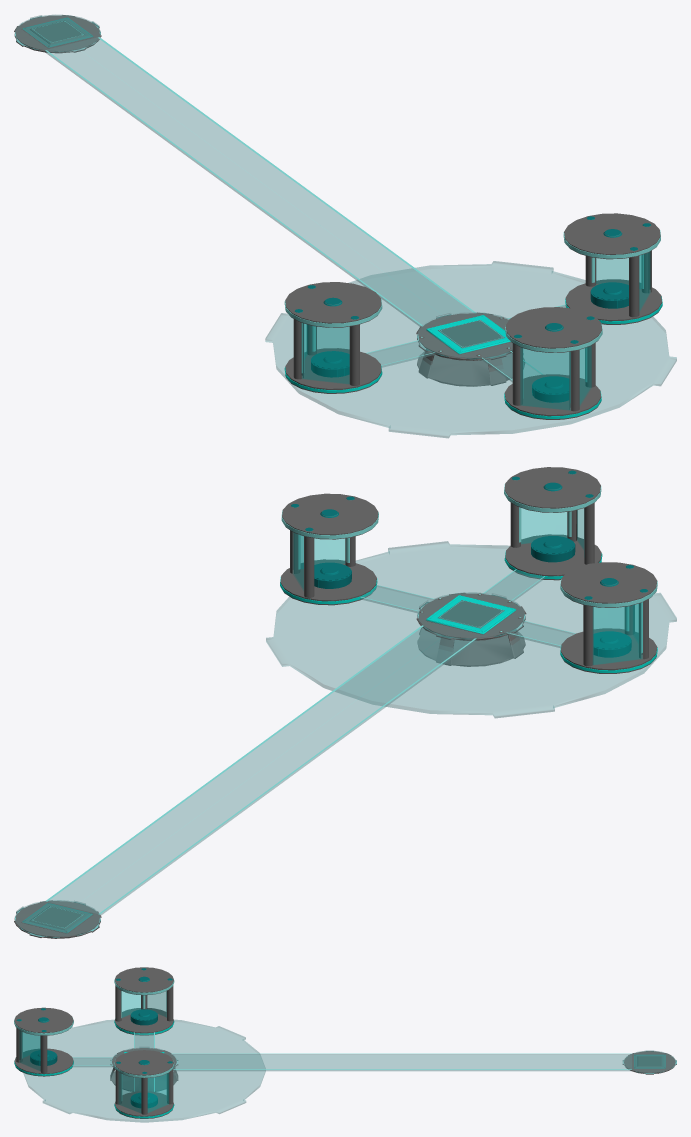
File: MAINMENU (4).fbx
The picture shows the model from 3 angles, top to bottom: view 1: azimuth 30°, elevation 25°; view 2: azimuth 150°, elevation 25°; view 3: azimuth 270°, elevation 25°; orthographic projection. The views are drawn at different scales.
Visible parts, largest first — view 1: pCylinder81, pCube10, pCylinder68, pCylinder60, pCylinder43, pCylinder77, pCylinder34, pCylinder5, pCylinder11, pCylinder7, pCylinder9, pCylinder25 (+13 smaller); view 2: pCylinder81, pCube10, pCylinder77, pCylinder43, pCylinder60, pCylinder34, pCylinder5, pCylinder1, pCylinder7, pCylinder2, pCylinder9, pCylinder11 (+12 smaller); view 3: pCylinder81, pCube10, pCylinder51, pCylinder43, pCylinder60, pCylinder77, pCylinder9, pCylinder11, pCylinder68, pCylinder7, pCylinder34, pCylinder25 (+8 smaller).
Part boxes in pixels (bbox=[...]): pCylinder81: bbox=[265, 261, 676, 438]; pCube10: bbox=[45, 37, 475, 326]; pCylinder68: bbox=[520, 345, 591, 411]; pCylinder60: bbox=[564, 213, 660, 259]; pCylinder43: bbox=[285, 282, 381, 327]; pCylinder77: bbox=[505, 307, 602, 352]; pCylinder34: bbox=[293, 319, 349, 384]; pCylinder5: bbox=[417, 349, 524, 386]; pCylinder11: bbox=[504, 374, 601, 419]; pCylinder7: bbox=[565, 279, 662, 324]; pCylinder9: bbox=[285, 348, 381, 393]; pCylinder25: bbox=[14, 14, 100, 51]; pCylinder81: bbox=[266, 541, 676, 718]; pCube10: bbox=[45, 625, 476, 915]; pCylinder77: bbox=[504, 467, 600, 512]; pCylinder43: bbox=[560, 562, 657, 607]; pCylinder60: bbox=[282, 493, 378, 539]; pCylinder34: bbox=[593, 599, 648, 664]; pCylinder5: bbox=[417, 627, 525, 666]; pCylinder1: bbox=[417, 592, 525, 638]; pCylinder7: bbox=[280, 559, 376, 605]; pCylinder2: bbox=[416, 592, 526, 639]; pCylinder9: bbox=[560, 628, 657, 673]; pCylinder11: bbox=[505, 534, 601, 580]; pCylinder81: bbox=[23, 1019, 265, 1122]; pCube10: bbox=[171, 1053, 631, 1071]; pCylinder51: bbox=[118, 1072, 168, 1114]; pCylinder43: bbox=[114, 967, 173, 995]; pCylinder60: bbox=[114, 1050, 173, 1078]; pCylinder77: bbox=[14, 1007, 73, 1035]; pCylinder9: bbox=[114, 1008, 173, 1035]; pCylinder11: bbox=[14, 1048, 73, 1076]; pCylinder68: bbox=[16, 1028, 40, 1071]; pCylinder7: bbox=[114, 1091, 173, 1118]; pCylinder34: bbox=[122, 991, 165, 1017]; pCylinder25: bbox=[623, 1050, 676, 1073].
Size of the model in its own units: 63.15 by 16.22 by 162.
